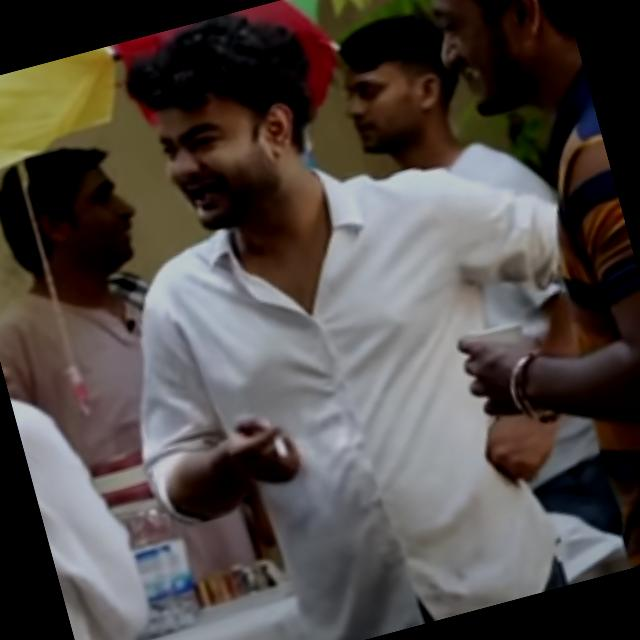cigarette: (250, 417, 304, 489)
